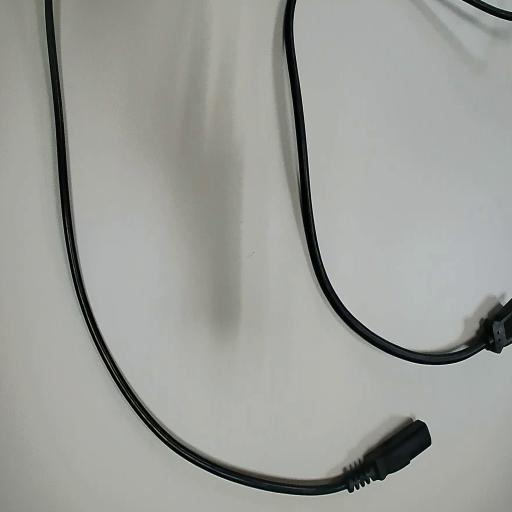wire: (45, 0, 429, 494), (283, 0, 511, 363)
